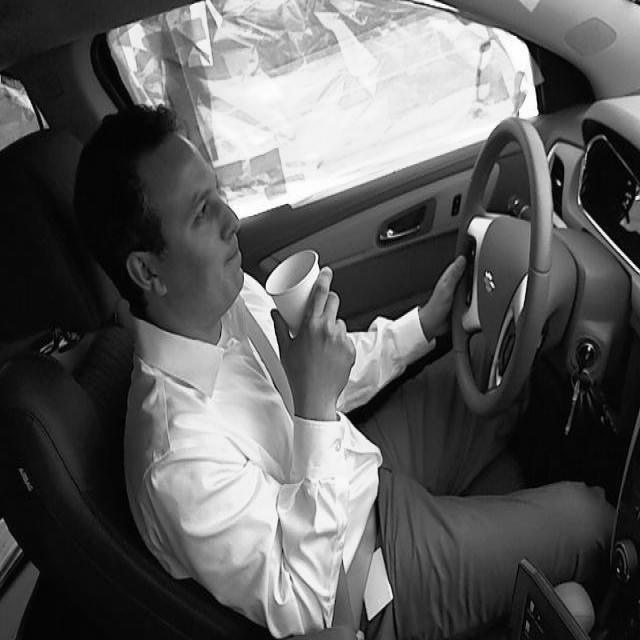Drinking: (265, 252, 334, 349)
